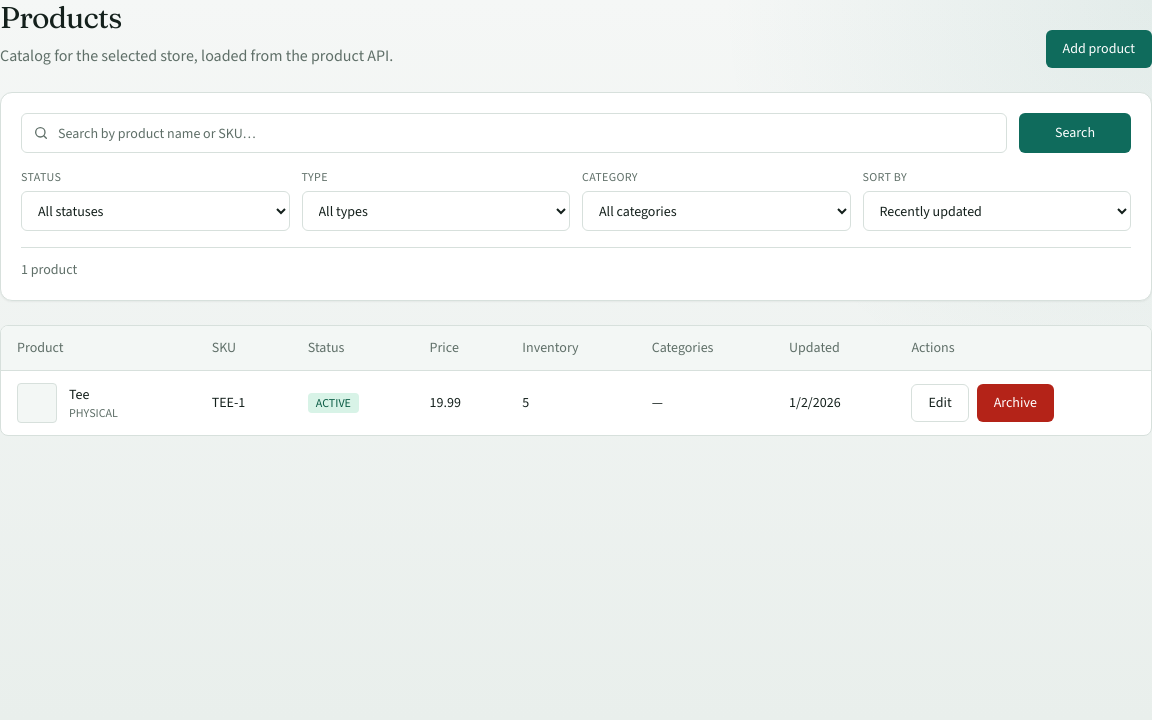
Test: Products catalog UI › requires confirmation before archive
What coordinates should you click on to do the following:
click the button "Archive"
I would click on:
 (1015, 403)
Its box is left=977, top=384, right=1054, bottom=422.
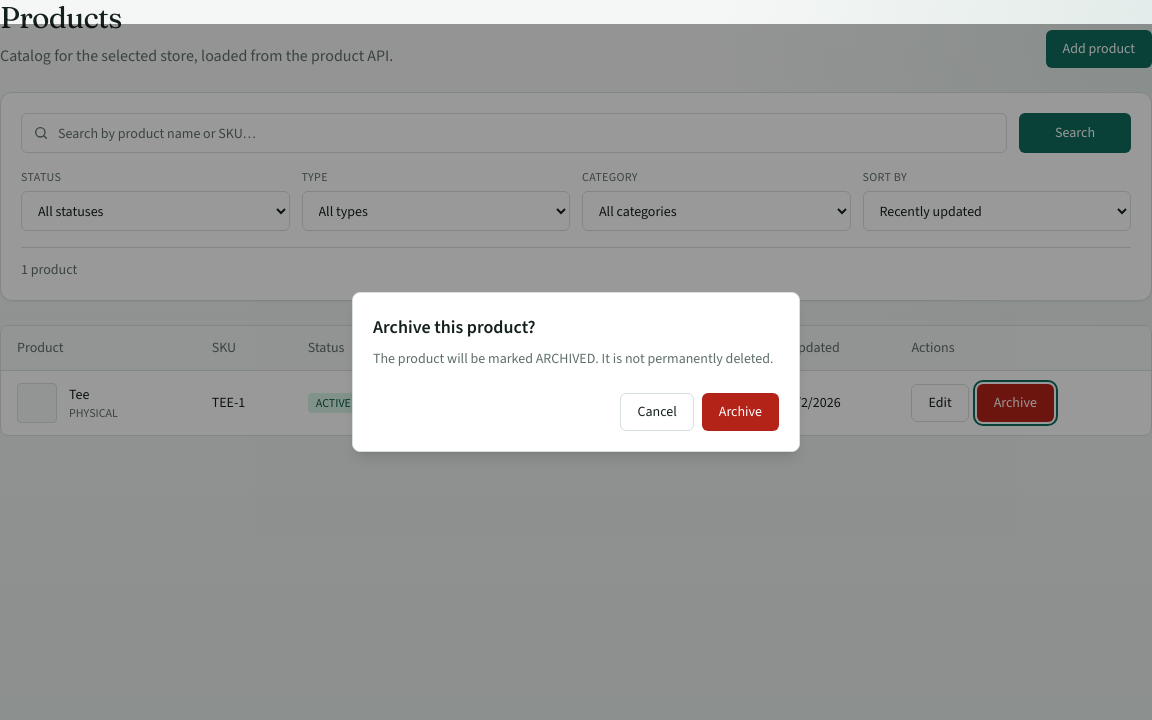
expect the heading "Archive this product?" is shown: met, box left=373, top=315, right=536, bottom=339
